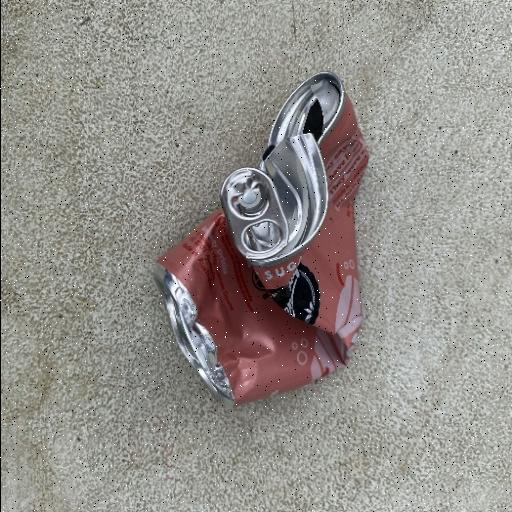Metal: (150, 70, 372, 408)
